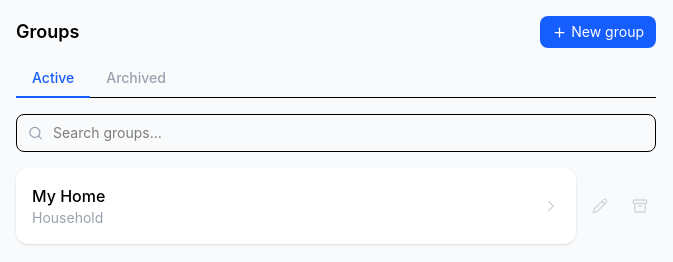
Scenario: GroupsPage › archived tab › shows archived groups after switching tab
Expected: the text "My Home" is shown, [32, 184, 105, 208]
Click the button "archived" at (136, 79), box [90, 60, 182, 98]
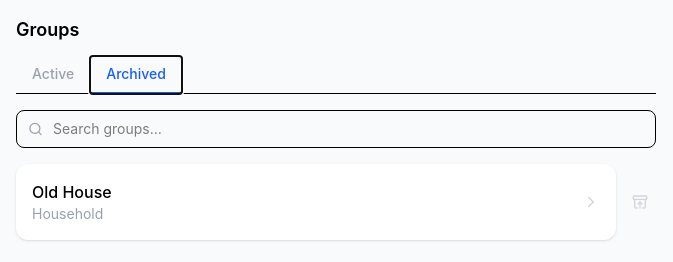
Expected: the text "Old House" is shown, [32, 180, 112, 204]
Expected: the button "My Home" is gone
